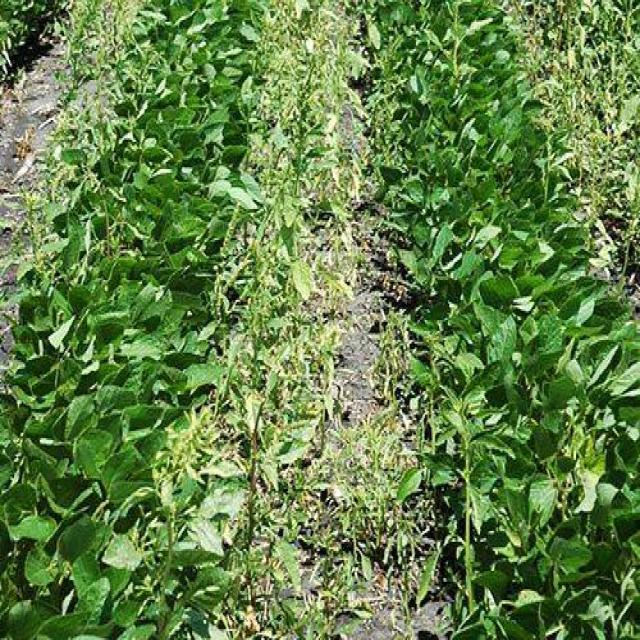row: (176, 0, 481, 640), (0, 1, 148, 396), (504, 2, 640, 328)
